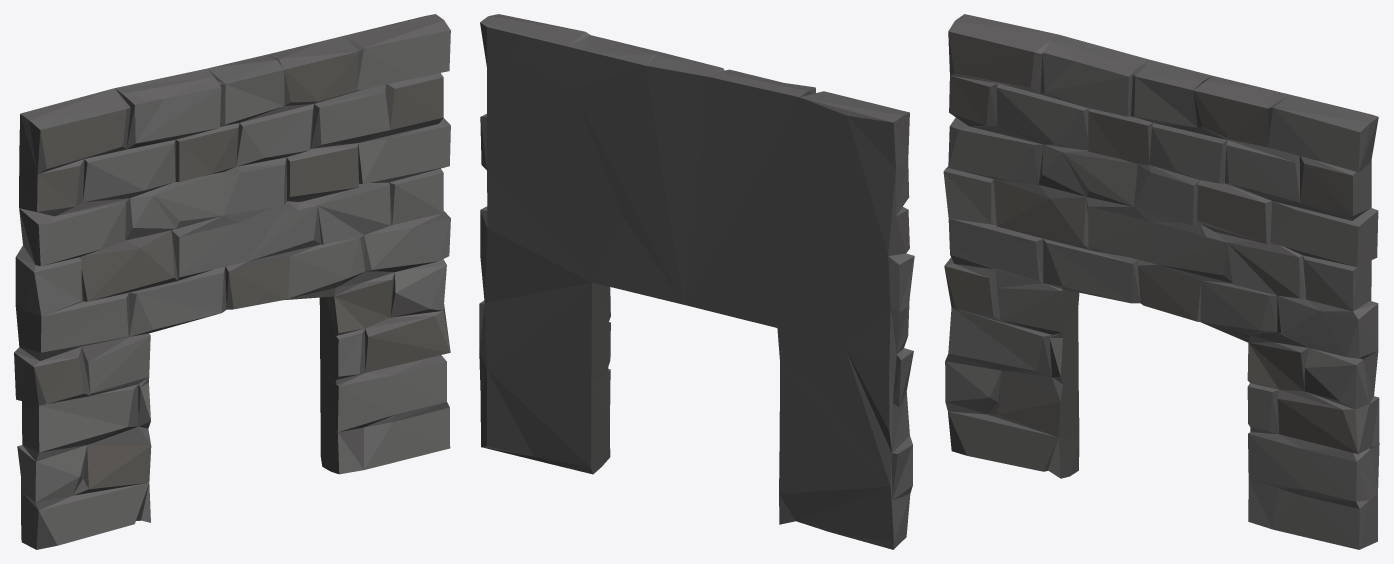
The model's file is SM_Env_Wall_DoorFrame_Double_01.FBX.
3 renders of one model, left to right at view 1: azimuth 30°, elevation 25°; view 2: azimuth 150°, elevation 25°; view 3: azimuth 330°, elevation 25°, orthographic.
Parts seen in each view (by area): view 1: SM_Env_Wall_DoorFrame_Double_01; view 2: SM_Env_Wall_DoorFrame_Double_01; view 3: SM_Env_Wall_DoorFrame_Double_01.
Boxes of the visible parts, left/top/right/bottom form: SM_Env_Wall_DoorFrame_Double_01: left=14, top=14, right=450, bottom=549; SM_Env_Wall_DoorFrame_Double_01: left=479, top=14, right=914, bottom=549; SM_Env_Wall_DoorFrame_Double_01: left=943, top=14, right=1379, bottom=549.
Size of what is drawn, in the model's own units: 518 by 42.95 by 507.
